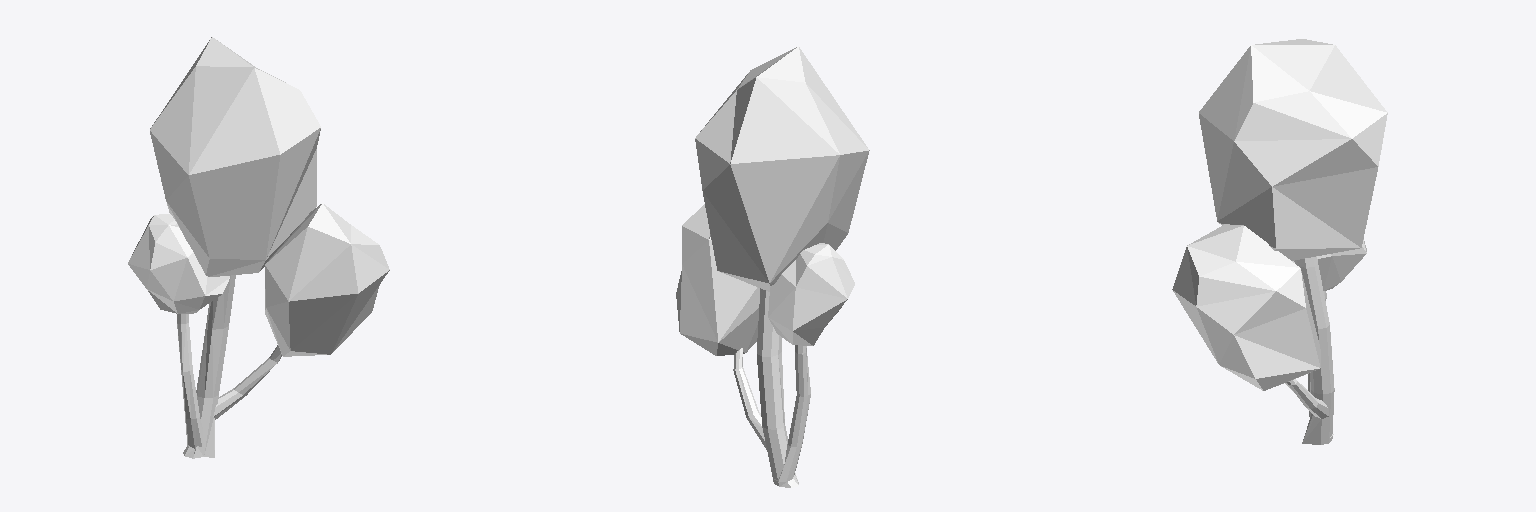
The model's file is treeseveral.obj.
3 renders of one model, left to right at view 1: azimuth 30°, elevation 25°; view 2: azimuth 150°, elevation 25°; view 3: azimuth 270°, elevation 25°, orthographic.
Visible parts, largest first — view 1: Cylinder001; view 2: Cylinder001; view 3: Cylinder001.
Part boxes in pixels (x1,y1,x2,y2): Cylinder001: (128,37,389,458); Cylinder001: (676,46,869,487); Cylinder001: (1172,39,1387,444).
Bounding box in the file's own units: 45.8 × 85.3 × 41.05.